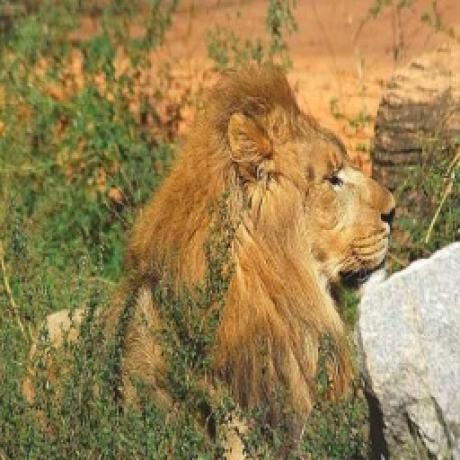Lion: (31, 58, 399, 422)
